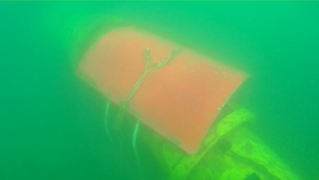leak: (73, 24, 245, 156)
pipe: (112, 102, 302, 180), (33, 1, 124, 72)
